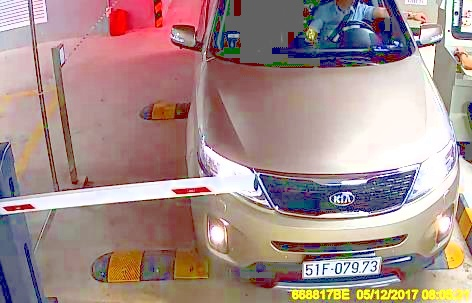plate: (299, 252, 380, 279)
